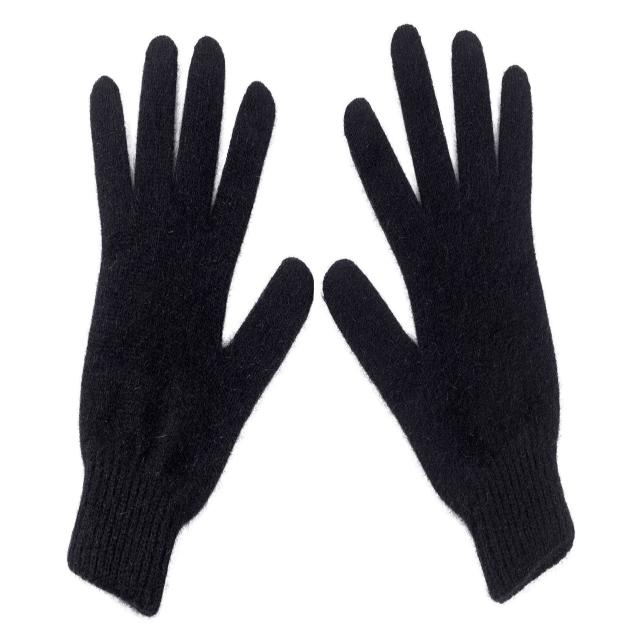gloves: (320, 16, 583, 614), (60, 26, 315, 620)
